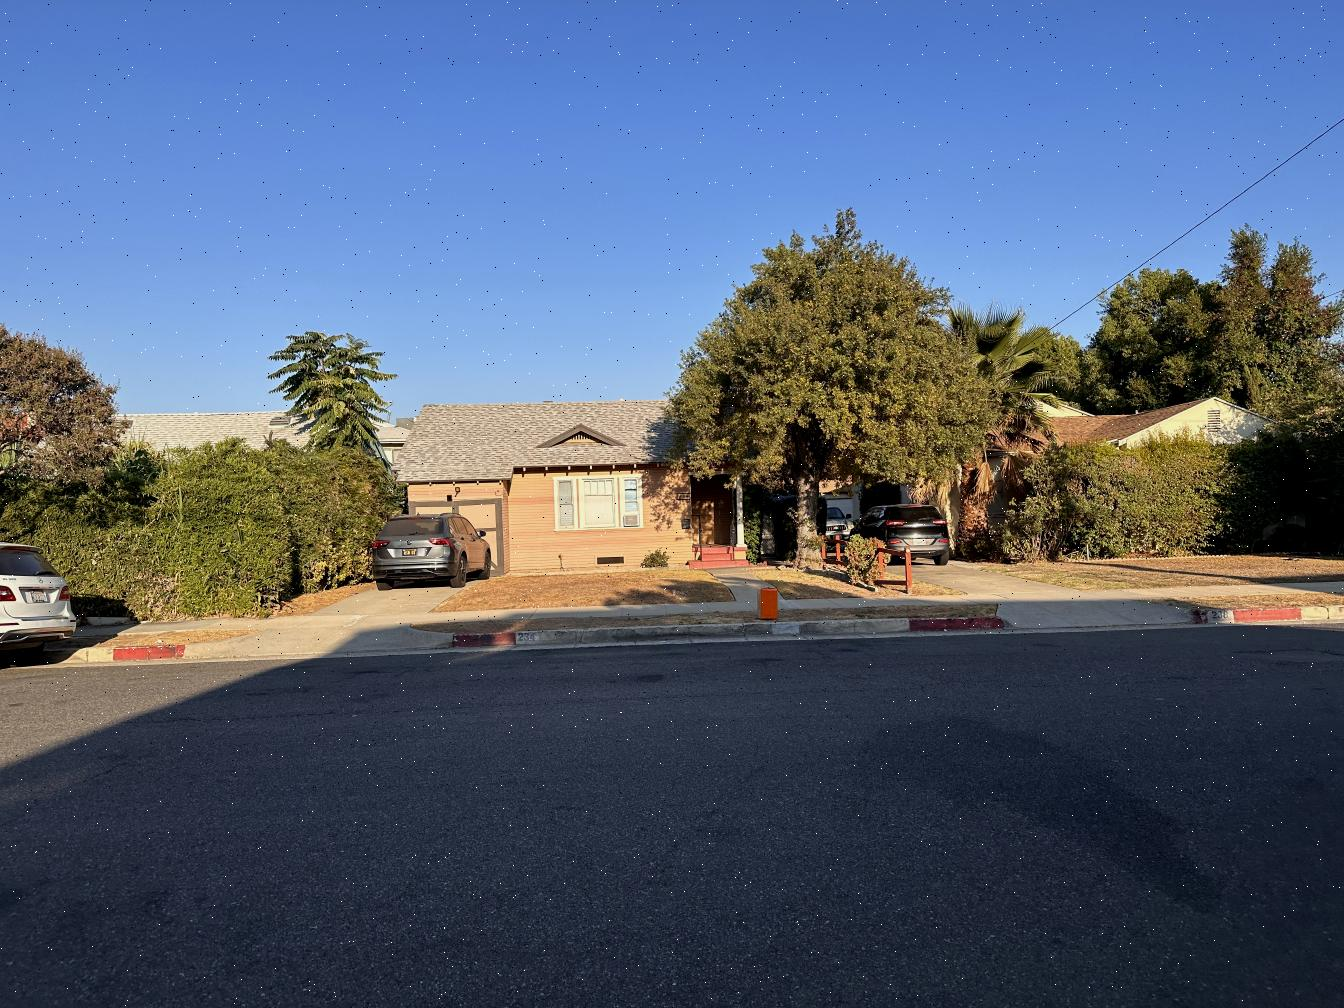curbs-laRr: (541, 624, 908, 643), (1302, 604, 1341, 620)
orange box: (759, 588, 779, 618)
